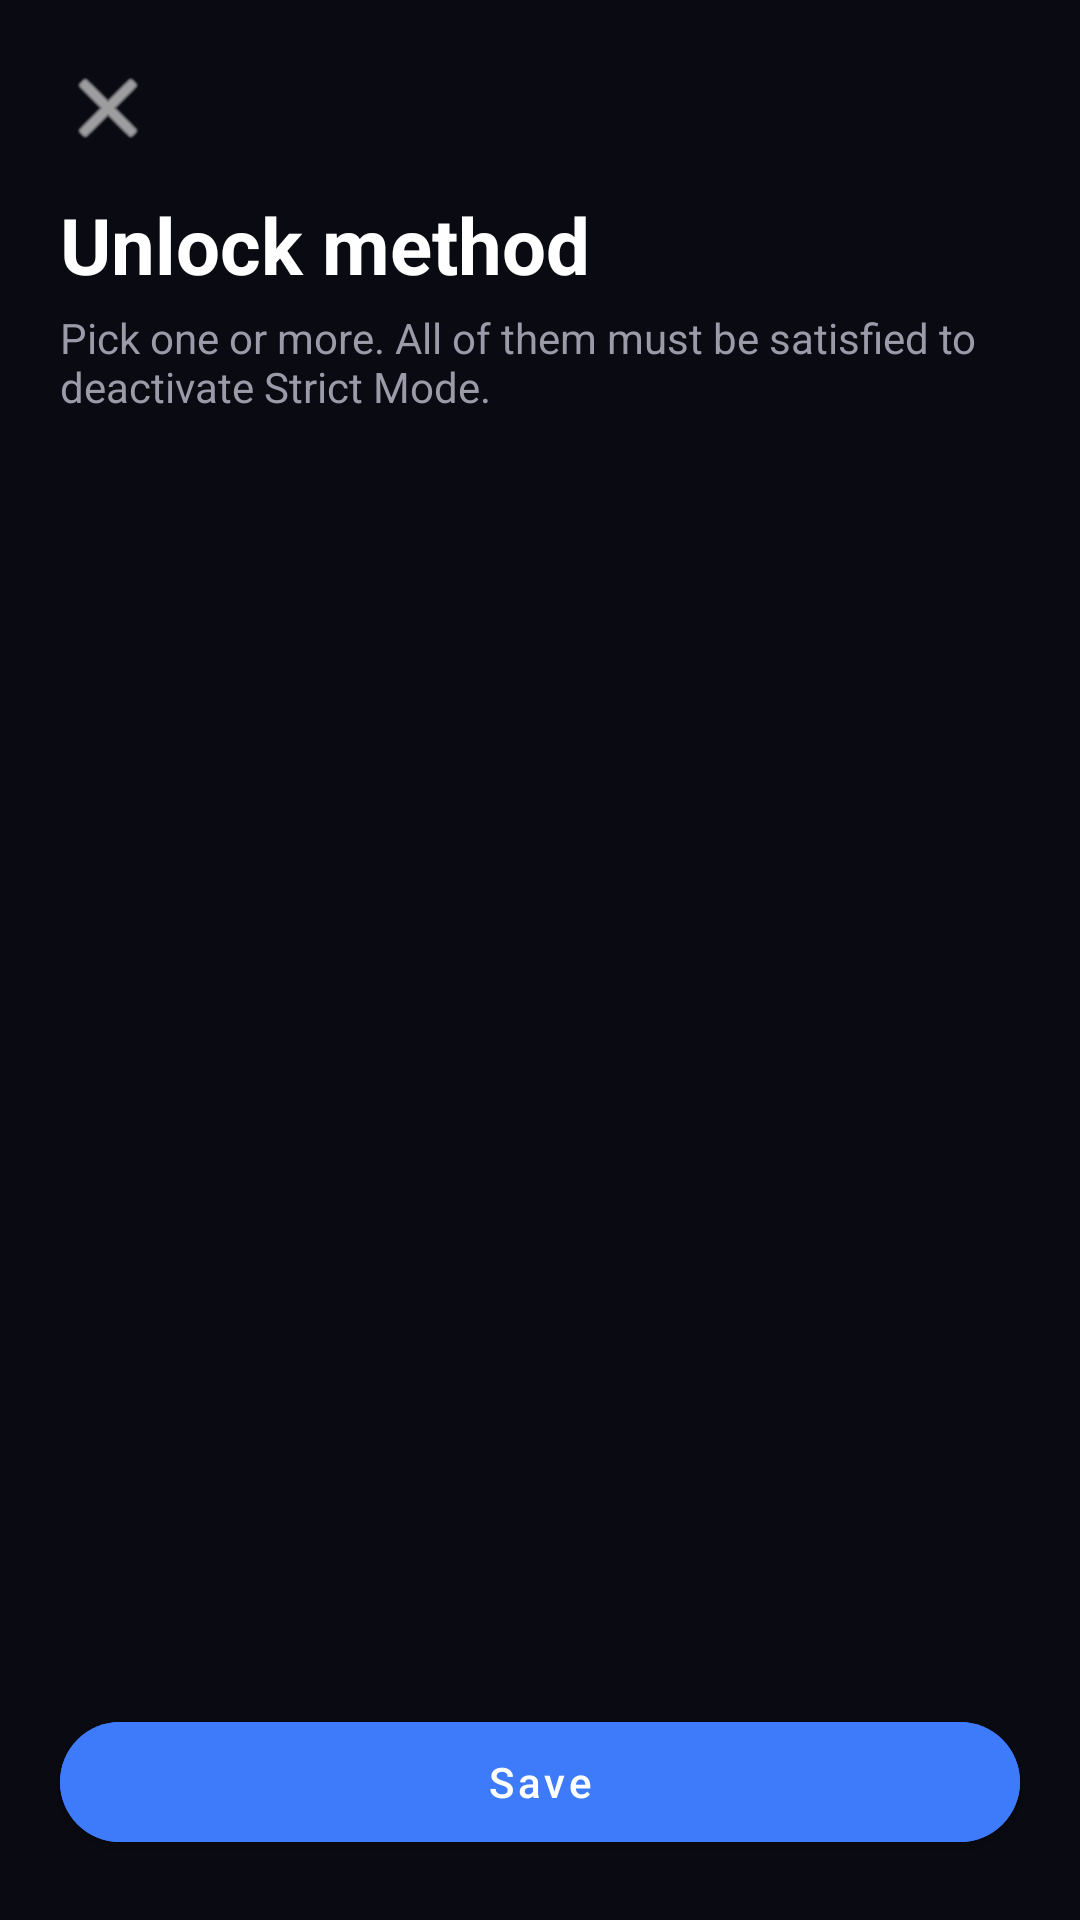

Where icons sit on this 1080 x 1920 app screen, as (x1, y1, x2, y2):
Close: (78, 78, 138, 138)
